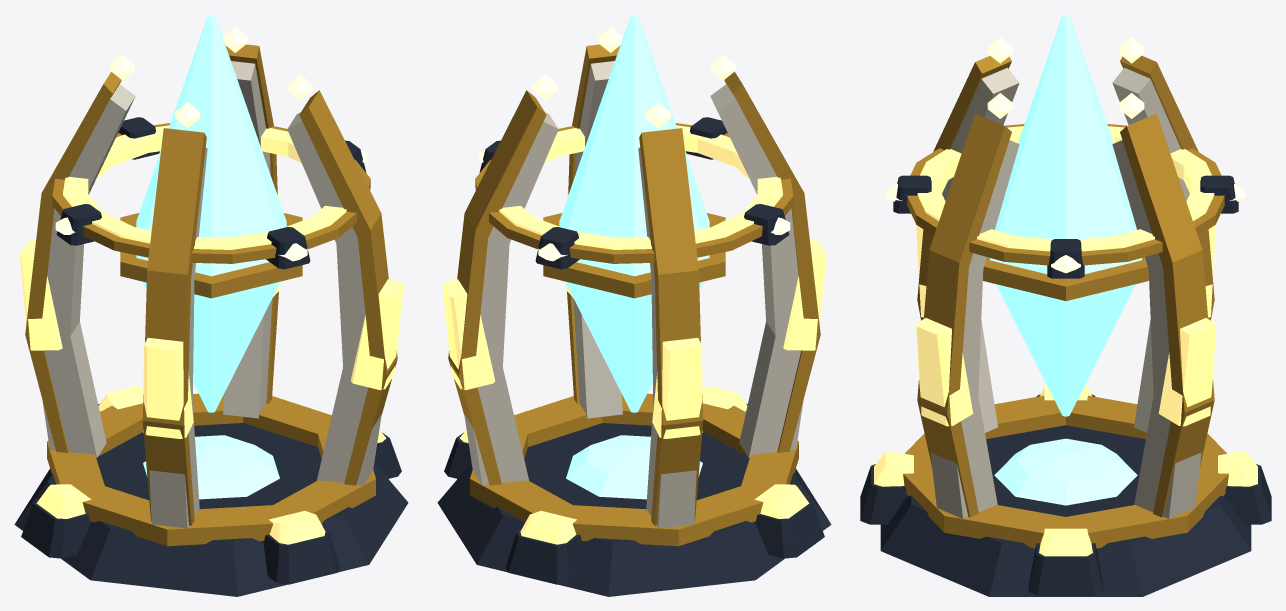
File: resonator.glb
The picture shows the model from 3 angles, left to right: view 1: azimuth 30°, elevation 25°; view 2: azimuth 150°, elevation 25°; view 3: azimuth 270°, elevation 25°; orthographic projection.
Visible parts, largest first — view 1: Surf_gold, Surf_obs, Surf_ivory, Surf_crys, Surf_TEAM, Surf_TEAM2, Surf_gold2, Surf_obs2, Surf_GLOW, Surf_GLOW2; view 2: Surf_gold, Surf_obs, Surf_ivory, Surf_crys, Surf_TEAM, Surf_TEAM2, Surf_gold2, Surf_obs2, Surf_GLOW, Surf_GLOW2; view 3: Surf_gold, Surf_crys, Surf_obs, Surf_ivory, Surf_TEAM, Surf_TEAM2, Surf_gold2, Surf_obs2, Surf_GLOW, Surf_GLOW2.
Part boxes in pixels (bbox=[...]): Surf_gold: bbox=[25, 44, 397, 546]; Surf_obs: bbox=[14, 404, 408, 596]; Surf_ivory: bbox=[42, 61, 381, 528]; Surf_crys: bbox=[136, 14, 286, 499]; Surf_TEAM: bbox=[19, 192, 403, 544]; Surf_TEAM2: bbox=[63, 125, 346, 249]; Surf_gold2: bbox=[52, 123, 370, 263]; Surf_obs2: bbox=[56, 117, 366, 269]; Surf_GLOW: bbox=[110, 27, 312, 127]; Surf_GLOW2: bbox=[55, 150, 367, 261]; Surf_gold: bbox=[448, 44, 820, 546]; Surf_obs: bbox=[437, 404, 831, 596]; Surf_ivory: bbox=[464, 61, 803, 528]; Surf_crys: bbox=[559, 14, 709, 499]; Surf_TEAM: bbox=[442, 192, 826, 544]; Surf_TEAM2: bbox=[499, 125, 782, 249]; Surf_gold2: bbox=[475, 123, 793, 263]; Surf_obs2: bbox=[479, 117, 789, 269]; Surf_GLOW: bbox=[533, 27, 735, 127]; Surf_GLOW2: bbox=[478, 150, 790, 261]; Surf_gold: bbox=[903, 56, 1228, 548]; Surf_crys: bbox=[990, 14, 1141, 505]; Surf_obs: bbox=[860, 394, 1271, 596]; Surf_ivory: bbox=[930, 68, 1201, 518]; Surf_TEAM: bbox=[874, 225, 1257, 556]; Surf_TEAM2: bbox=[917, 126, 1214, 251]; Surf_gold2: bbox=[907, 124, 1224, 265]; Surf_obs2: bbox=[893, 175, 1238, 278]; Surf_GLOW: bbox=[987, 37, 1144, 118]; Surf_GLOW2: bbox=[886, 184, 1245, 273].
Size of the model in its own units: 3.1 by 4.18 by 3.1.
